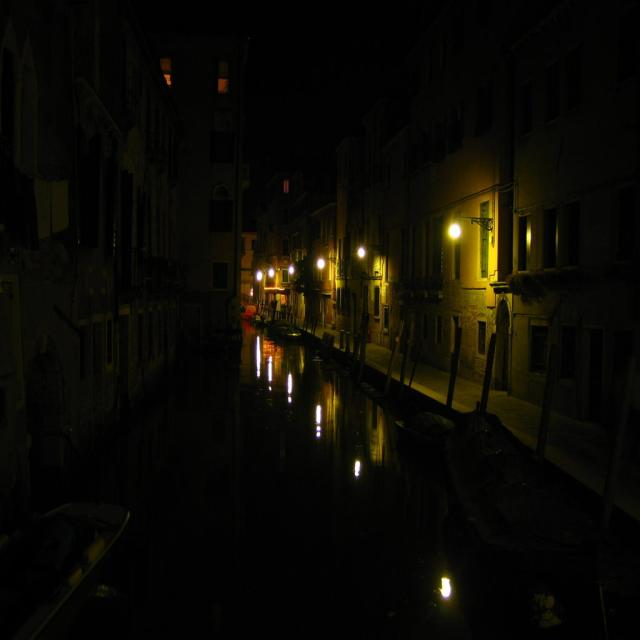Boat: (444, 377, 600, 584), (0, 474, 145, 640)
